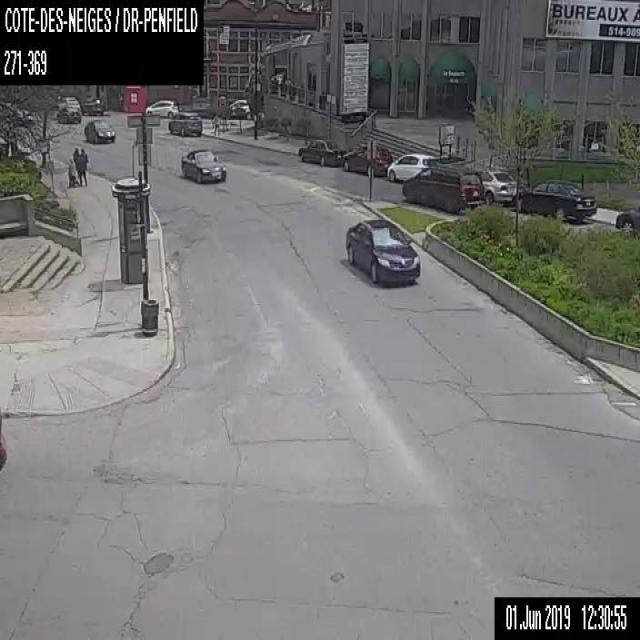pedestrian: (77, 147, 88, 186), (67, 156, 78, 187), (72, 146, 79, 180), (213, 113, 219, 136)
vehicle: (345, 217, 419, 283), (402, 163, 484, 214), (518, 179, 596, 221), (342, 144, 392, 177), (180, 146, 225, 182), (476, 168, 516, 206), (387, 152, 439, 181), (297, 137, 346, 166), (167, 111, 202, 136), (614, 204, 639, 234), (84, 119, 115, 142), (144, 98, 178, 116), (228, 98, 252, 118), (81, 96, 103, 115), (0, 405, 6, 470), (57, 106, 80, 122), (58, 95, 80, 108)
